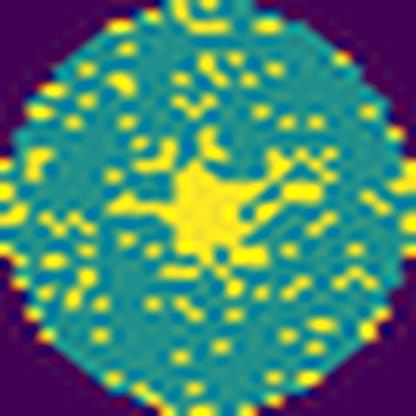Center: (172, 165, 271, 262)
